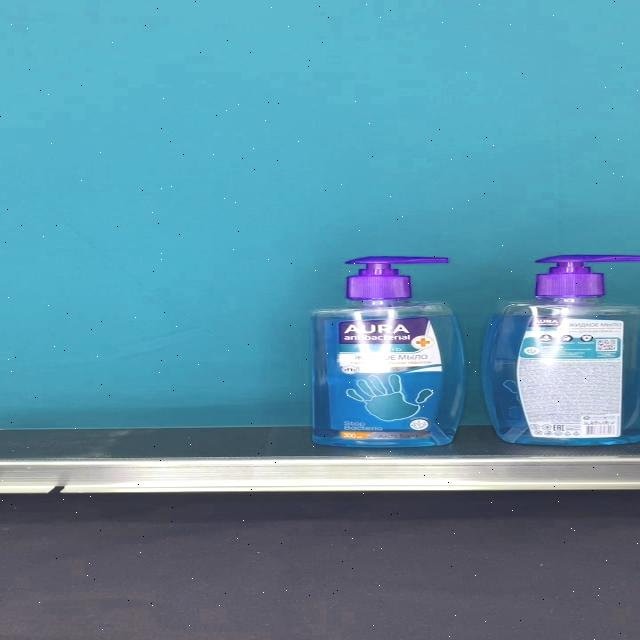Bottle: (483, 254, 640, 446), (309, 256, 466, 447)
Cap: (535, 254, 640, 299), (343, 256, 448, 300)
